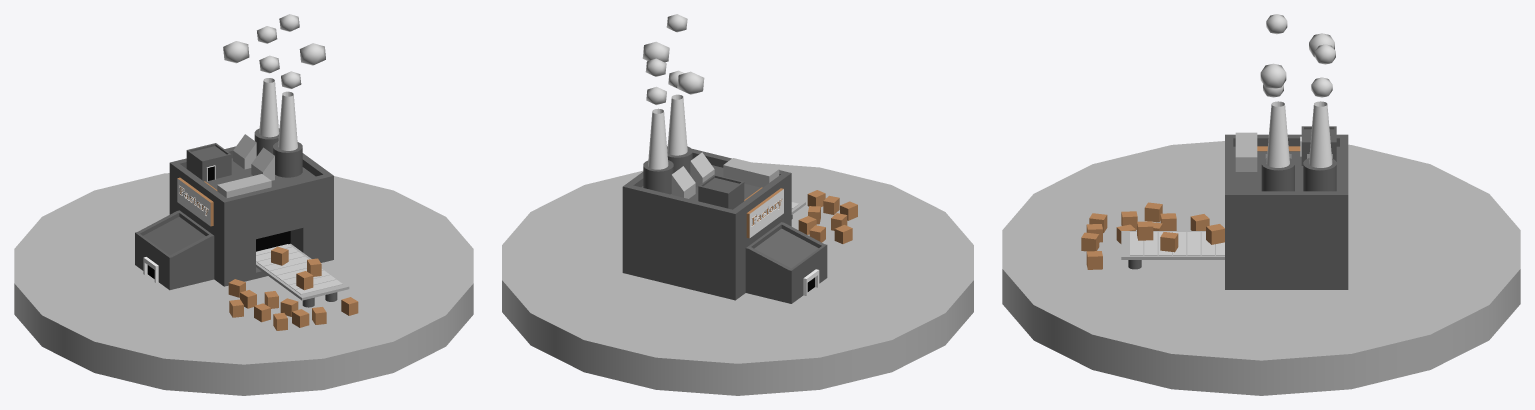
File: 78ee05cf-bfa0-447a-a3ed-730711679df6.glb
3 renders of one model, left to right at view 1: azimuth 30°, elevation 25°; view 2: azimuth 150°, elevation 25°; view 3: azimuth 270°, elevation 25°, orthographic. The views are drawn at different scales.
Visible parts, largest first — view 1: GeoSphere003; view 2: GeoSphere003; view 3: GeoSphere003.
Part boxes in pixels (x1,y1,x2,y2): GeoSphere003: [14, 14, 473, 395]; GeoSphere003: [502, 14, 973, 395]; GeoSphere003: [1002, 14, 1520, 395].
Size of the model in its own units: 157 by 98.83 by 155.
